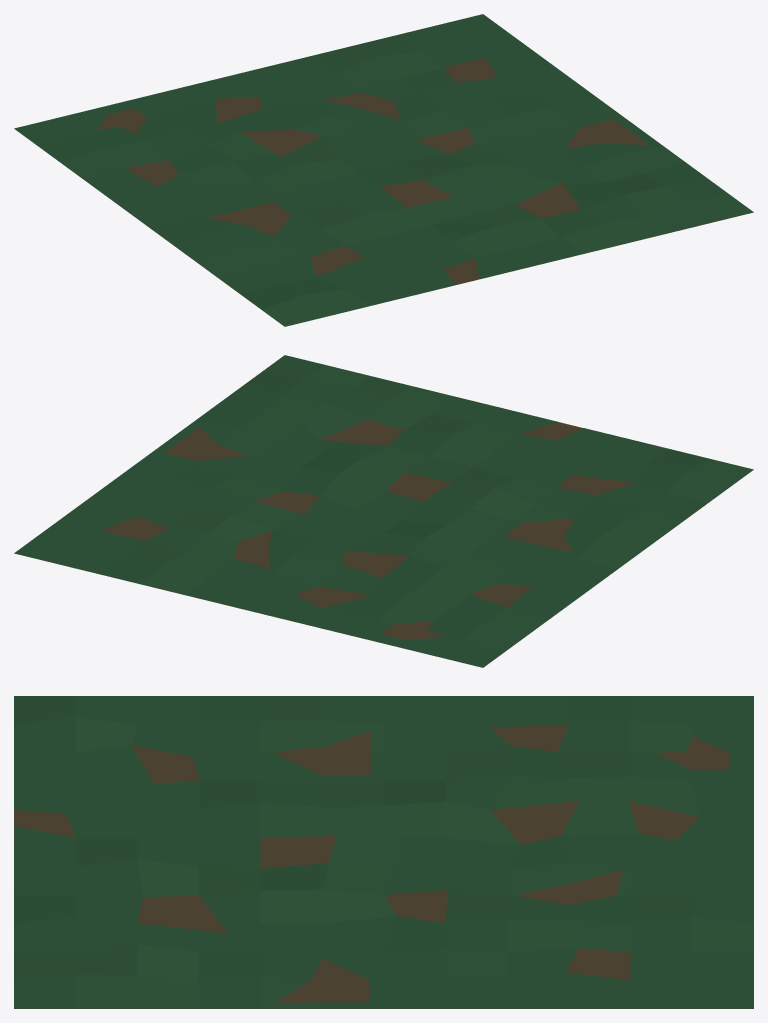
Rendered from Grass_Tile.glb.
3 views of the same model, one above another, from view 1: azimuth 30°, elevation 25°; view 2: azimuth 150°, elevation 25°; view 3: azimuth 270°, elevation 25° (orthographic). The views are drawn at different scales.
Parts seen in each view (by area): view 1: Grass, Soil; view 2: Grass, Soil; view 3: Grass, Soil.
Boxes of the visible parts, x1,y1,x2,y2 form: Grass: [14, 14, 753, 326]; Soil: [16, 57, 753, 326]; Grass: [14, 355, 753, 667]; Soil: [14, 419, 751, 667]; Grass: [14, 696, 753, 1008]; Soil: [14, 724, 753, 1008].
Bounding box in the file's own units: 256 × 3.95 × 256.
